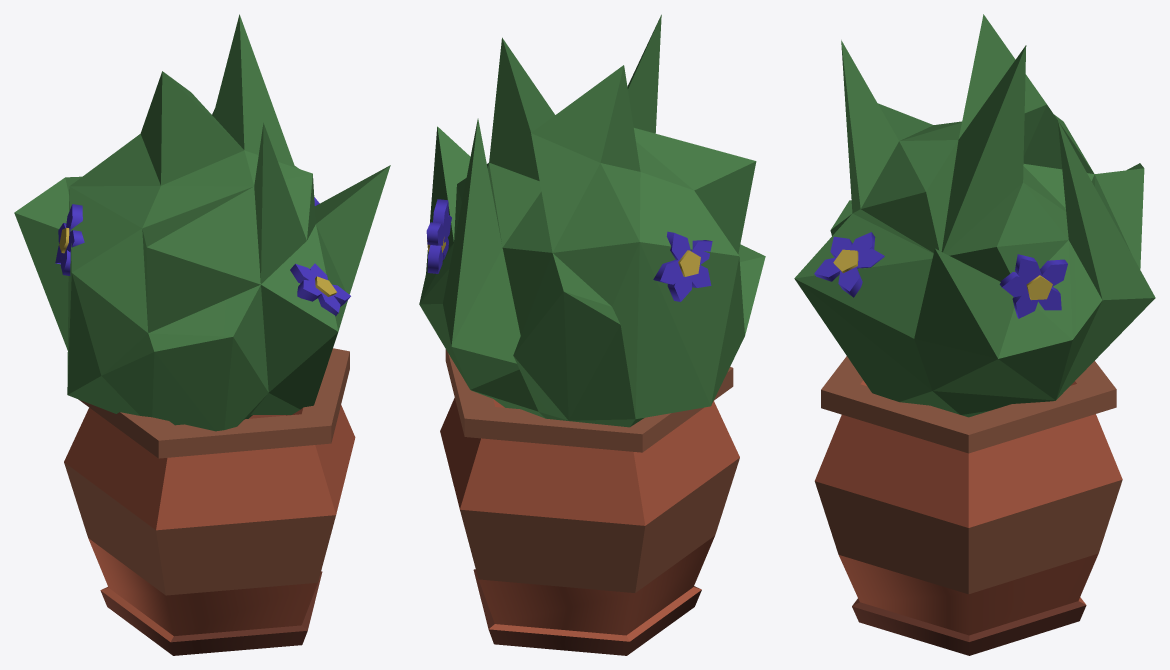
File: flowerpot01.fbx
The picture shows the model from 3 angles, left to right: view 1: azimuth 30°, elevation 25°; view 2: azimuth 150°, elevation 25°; view 3: azimuth 270°, elevation 25°; orthographic projection. The views are drawn at different scales.
Parts seen in each view (by area): view 1: flowerpot01; view 2: flowerpot01; view 3: flowerpot01.
Boxes of the visible parts, x1=… form: flowerpot01: x1=14, y1=14, x2=390, y2=655; flowerpot01: x1=419, y1=14, x2=765, y2=655; flowerpot01: x1=794, y1=14, x2=1155, y2=655.
Size of the model in its own units: 13.91 by 24.63 by 13.75.
